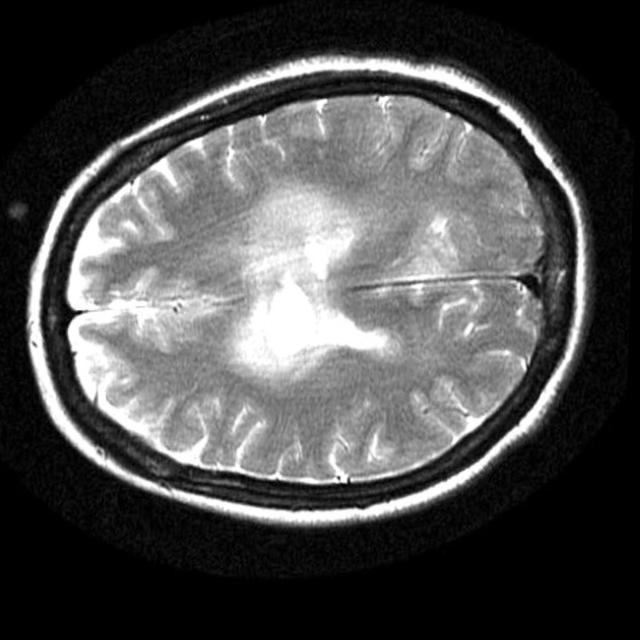Tumor: (246, 277, 388, 372)
